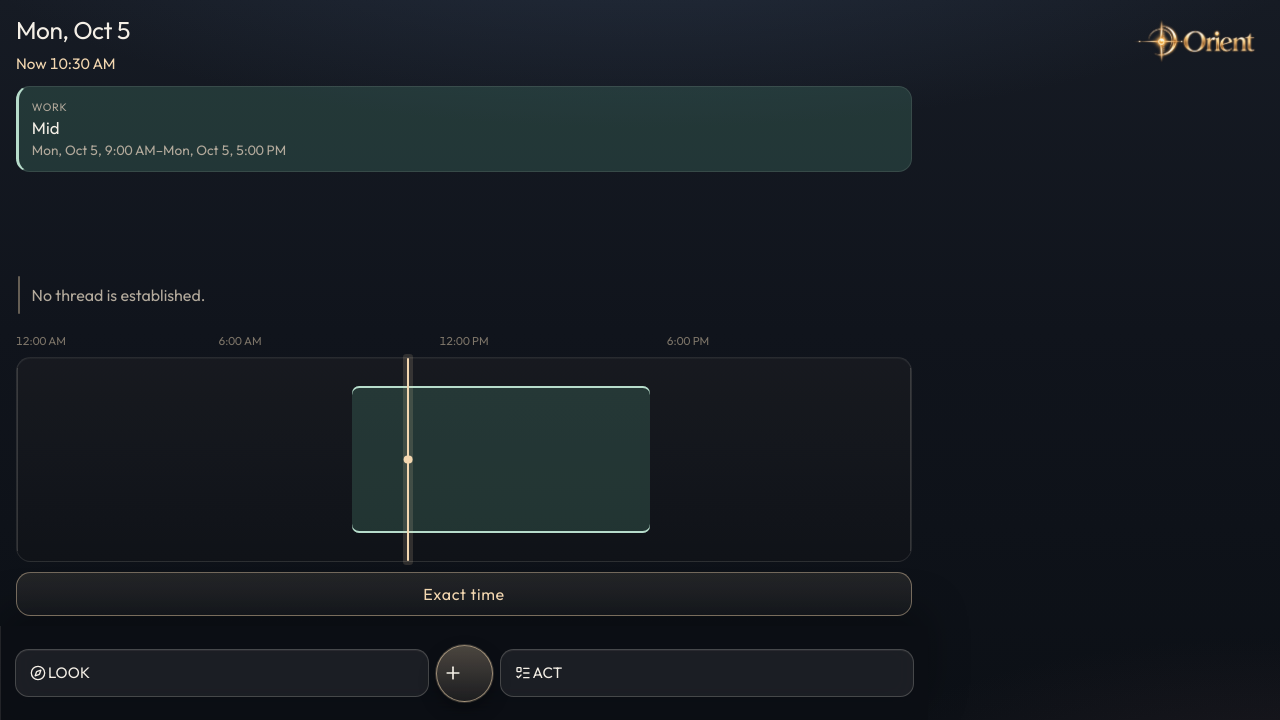
Test: all-day authority reachability › keeps Task/Note ADD paths and Work schedule and does not invent capacity clocks for all-day facts
Step 1. Click the button named "ADD" → (464, 673), box [436, 645, 493, 702]
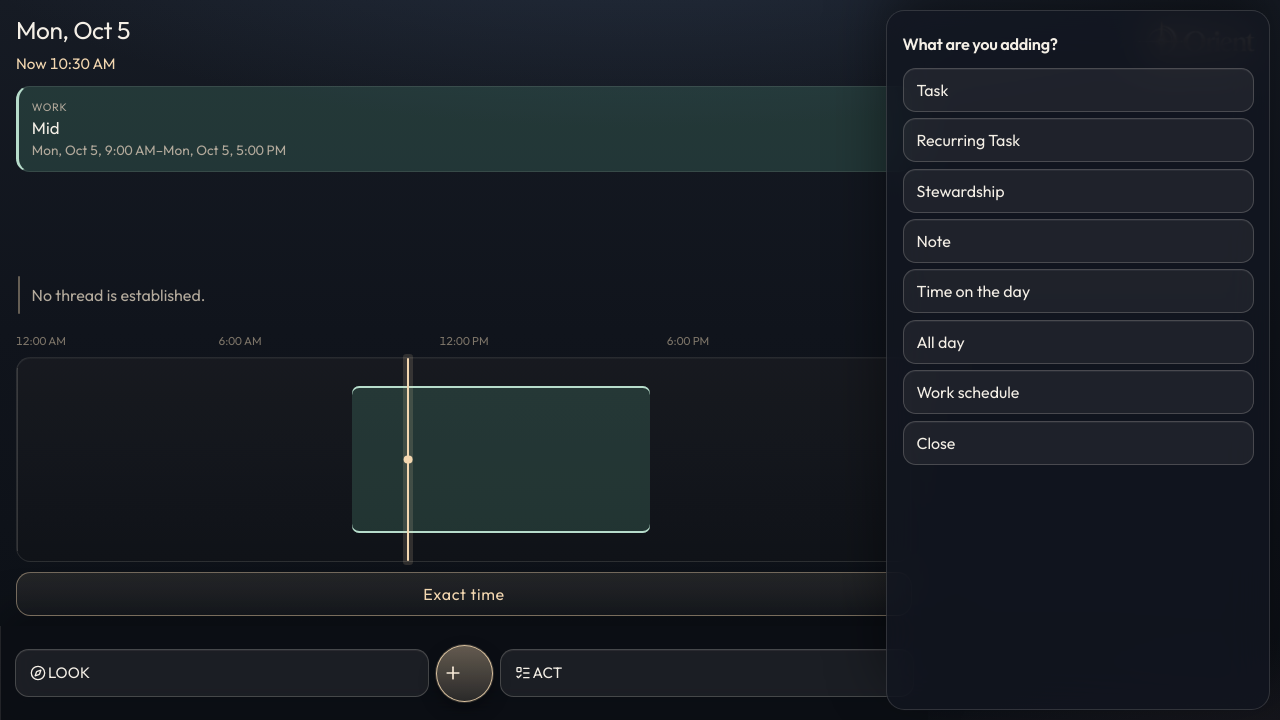
Expected: the button "Task" is shown, [903, 68, 1254, 112]
Expected: the button "Stewardship" is shown, [903, 169, 1254, 213]
Expected: the button "Note" is shown, [903, 219, 1254, 263]
